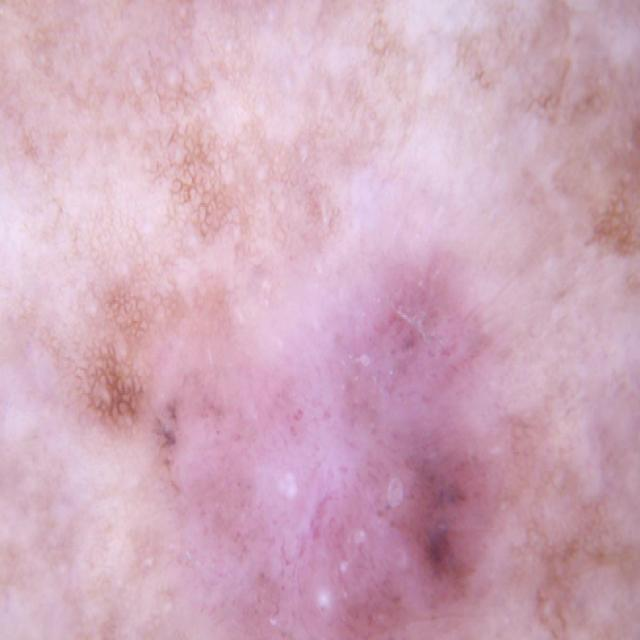Carcinoma: (140, 157, 579, 640)
